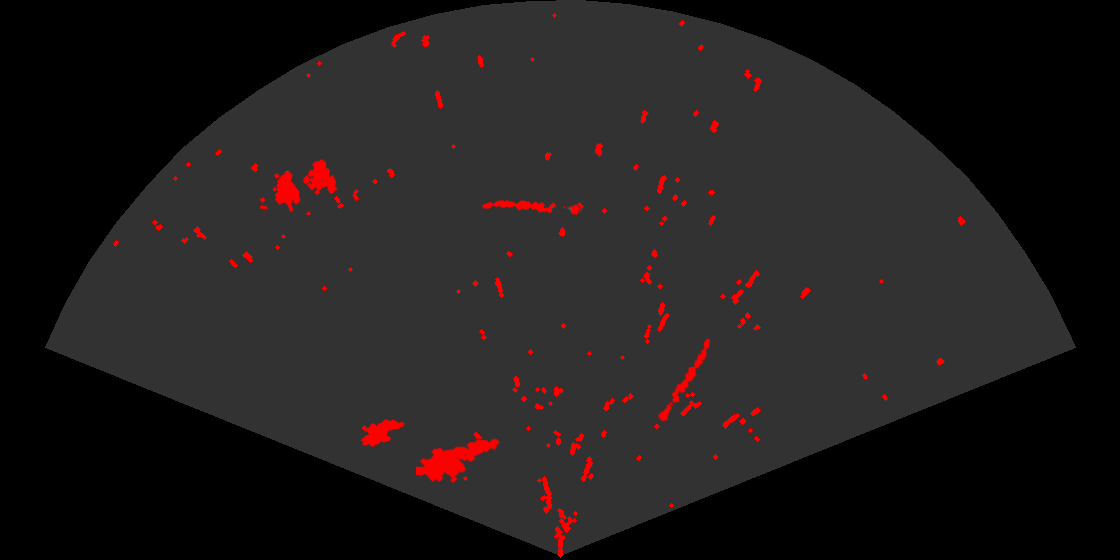AUV: (359, 418, 406, 448)
cage: (260, 158, 339, 215)
chain: (656, 337, 712, 423), (480, 198, 582, 216)
frogman: (416, 437, 500, 485)
